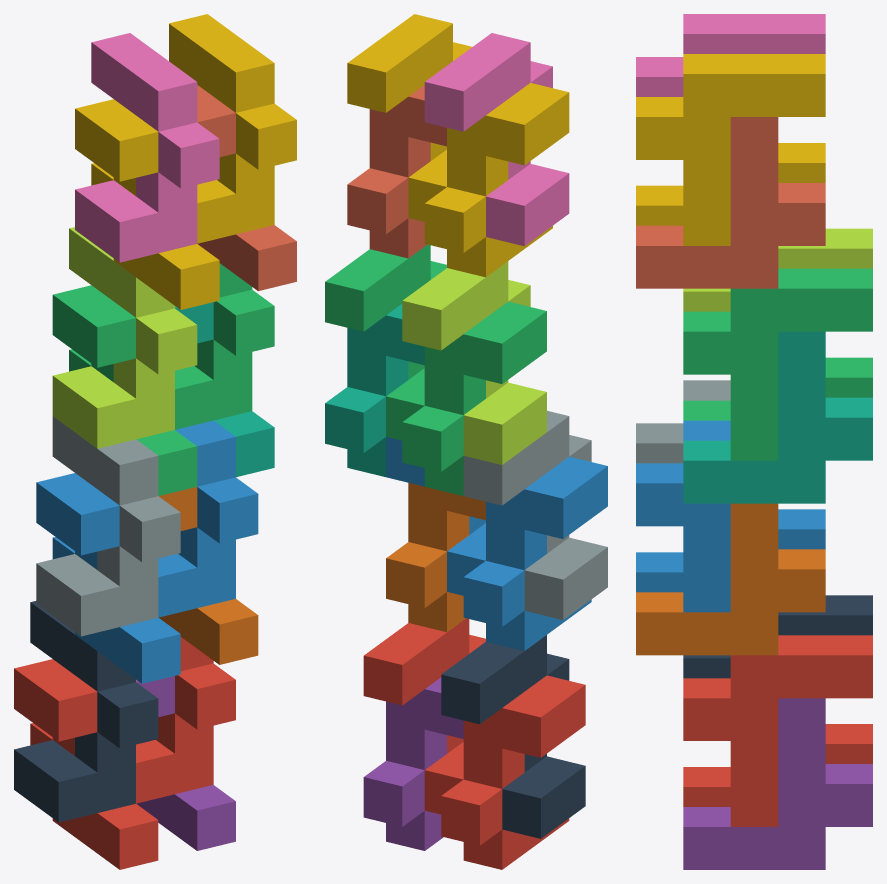
File: tiling.obj
3 views of the same model, side by side, from view 1: azimuth 30°, elevation 25°; view 2: azimuth 150°, elevation 25°; view 3: azimuth 270°, elevation 25° (orthographic). The views are drawn at different scales.
Parts seen in each view (by area): view 1: copy_2_domain_4, copy_2_domain_2, copy_2_domain_3, copy_2_domain_1, copy_2_domain_8, copy_2_domain_6, copy_1_domain_1, copy_1_domain_2, copy_1_domain_4, copy_2_domain_7, copy_2_domain_5, copy_1_domain_3 (+4 smaller); view 2: copy_1_domain_1, copy_1_domain_4, copy_1_domain_2, copy_2_domain_4, copy_1_domain_3, copy_2_domain_3, copy_2_domain_1, copy_2_domain_2, copy_1_domain_8, copy_1_domain_5, copy_2_domain_8, copy_1_domain_7 (+4 smaller); view 3: copy_2_domain_8, copy_2_domain_7, copy_2_domain_5, copy_1_domain_7, copy_1_domain_8, copy_1_domain_5, copy_1_domain_6, copy_2_domain_6, copy_2_domain_4, copy_2_domain_1, copy_2_domain_3, copy_1_domain_2 (+4 smaller).
Boxes of the visible parts, <box> form: copy_2_domain_4: <box>75,33,219,262</box>; copy_2_domain_2: <box>36,416,180,636</box>; copy_2_domain_3: <box>52,227,197,448</box>; copy_2_domain_1: <box>14,601,158,822</box>; copy_2_domain_8: <box>169,14,296,243</box>; copy_2_domain_6: <box>158,420,258,617</box>; copy_1_domain_1: <box>14,659,158,869</box>; copy_1_domain_2: <box>36,473,180,683</box>; copy_1_domain_4: <box>75,99,219,309</box>; copy_2_domain_7: <box>175,263,274,429</box>; copy_2_domain_5: <box>136,637,235,803</box>; copy_1_domain_3: <box>52,285,197,495</box>; copy_1_domain_1: <box>441,675,585,869</box>; copy_1_domain_4: <box>424,83,569,277</box>; copy_1_domain_2: <box>463,456,607,650</box>; copy_2_domain_4: <box>424,33,569,246</box>; copy_1_domain_3: <box>402,301,546,495</box>; copy_2_domain_3: <box>402,261,546,464</box>; copy_2_domain_1: <box>441,635,585,838</box>; copy_2_domain_2: <box>463,410,607,619</box>; copy_1_domain_8: <box>347,85,446,258</box>; copy_1_domain_5: <box>363,677,463,850</box>; copy_2_domain_8: <box>347,14,471,221</box>; copy_1_domain_7: <box>325,304,424,477</box>; copy_2_domain_8: <box>636,54,825,245</box>; copy_2_domain_7: <box>683,268,872,460</box>; copy_2_domain_5: <box>683,635,872,826</box>; copy_1_domain_7: <box>683,331,872,503</box>; copy_1_domain_8: <box>636,117,825,288</box>; copy_1_domain_5: <box>683,698,872,869</box>; copy_1_domain_6: <box>636,503,825,655</box>; copy_2_domain_6: <box>636,420,730,612</box>; copy_2_domain_4: <box>636,14,825,96</box>; copy_2_domain_1: <box>683,595,872,678</box>; copy_2_domain_3: <box>683,228,872,311</box>; copy_1_domain_2: <box>636,509,825,592</box>.
Bounding box in the file's own units: 5 × 19 × 5.
